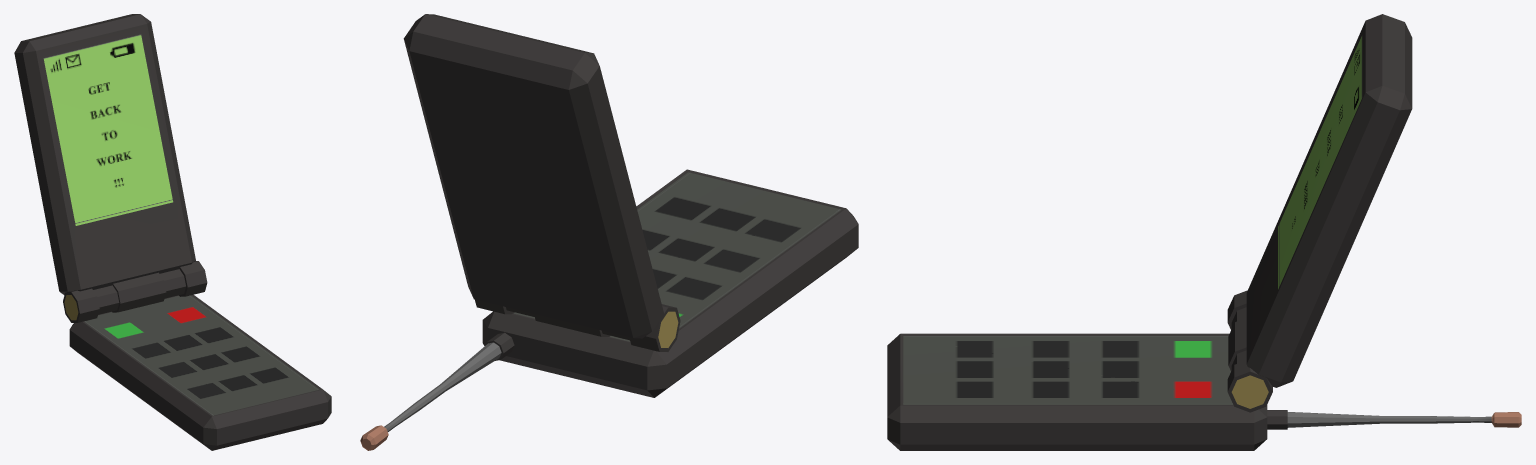
The model's file is cellphone.fbx.
The picture shows the model from 3 angles, left to right: view 1: azimuth 30°, elevation 25°; view 2: azimuth 150°, elevation 25°; view 3: azimuth 270°, elevation 25°; orthographic projection. The views are drawn at different scales.
Visible parts, largest first — view 1: pCube3; view 2: pCube3, pCylinder3; view 3: pCube3, pCylinder3.
Boxes of the visible parts, x1=… form: pCube3: x1=14, y1=14, x2=331, y2=450; pCube3: x1=403, y1=14, x2=858, y2=397; pCylinder3: x1=360, y1=342, x2=501, y2=450; pCube3: x1=887, y1=14, x2=1412, y2=450; pCylinder3: x1=1287, y1=412, x2=1521, y2=427.
Size of the model in its own units: 7.27 by 14.96 by 23.56.
